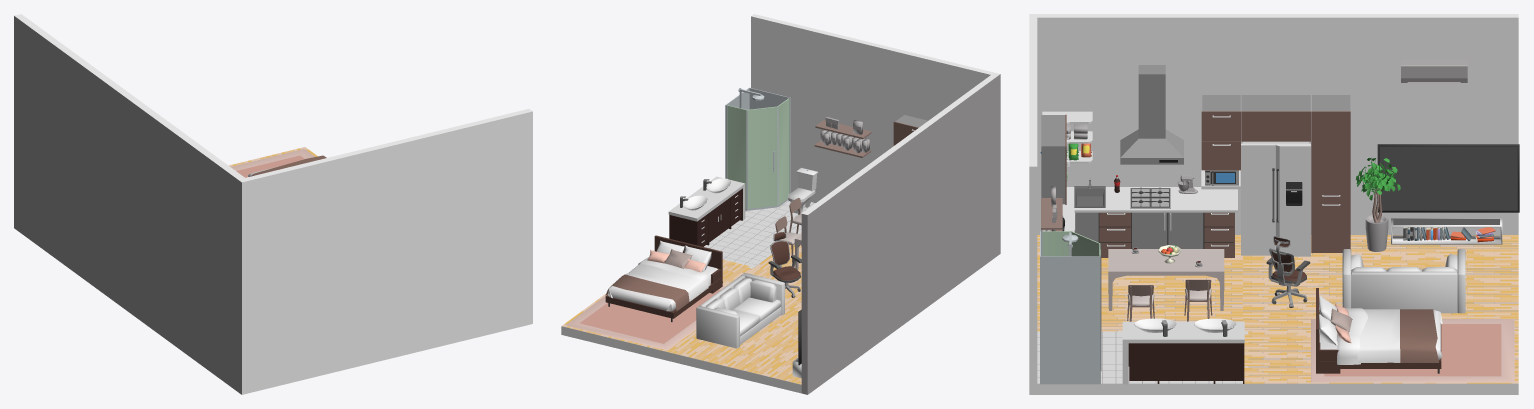
Rendered from room.glb.
The picture shows the model from 3 angles, left to right: view 1: azimuth 30°, elevation 25°; view 2: azimuth 150°, elevation 25°; view 3: azimuth 270°, elevation 25°; orthographic projection. The views are drawn at different scales.
Visible parts, largest first — view 1: prop_001.007; view 2: prop_001.007, bed_005.001, sofa_032.002, bathroom_item_010.002, office_chair_013.001, bathroom_item_022.002; view 3: prop_001.007, bed_005.001, bathroom_item_010.002, sofa_032.002, prop_039.011, flower_017.004, office_chair_013.001, kitchen_chair_030.014, kitchen_chair_030.012.
Boxes of the visible parts, bbox=[...] form: prop_001.007: bbox=[14, 14, 532, 394]; prop_001.007: bbox=[561, 14, 1000, 394]; bed_005.001: bbox=[605, 235, 722, 321]; sofa_032.002: bbox=[696, 273, 784, 348]; bathroom_item_010.002: bbox=[668, 176, 745, 246]; office_chair_013.001: bbox=[768, 231, 801, 297]; bathroom_item_022.002: bbox=[788, 167, 818, 213]; prop_001.007: bbox=[1029, 14, 1519, 394]; bed_005.001: bbox=[1316, 288, 1442, 373]; bathroom_item_010.002: bbox=[1122, 318, 1244, 384]; sofa_032.002: bbox=[1342, 249, 1465, 313]; prop_039.011: bbox=[1108, 245, 1224, 310]; flower_017.004: bbox=[1356, 157, 1400, 251]; office_chair_013.001: bbox=[1266, 236, 1310, 307]; kitchen_chair_030.014: bbox=[1184, 279, 1212, 321]; kitchen_chair_030.012: bbox=[1127, 285, 1154, 321].
Size of the model in its own units: 6.04 by 4.2 by 8.18.
Materials: 4 (2 with a texture image).
